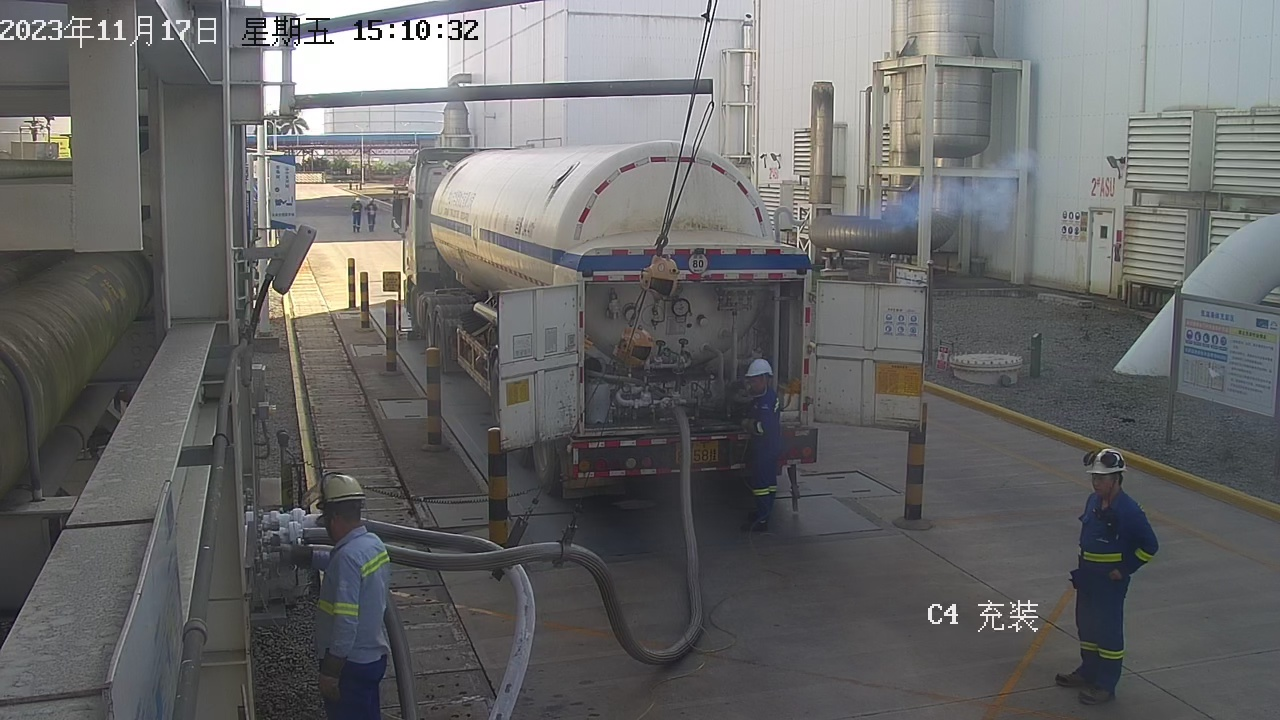Head_with_Helmet: (280, 454, 384, 548), (1067, 441, 1155, 505), (728, 349, 793, 402), (352, 196, 361, 207), (367, 196, 375, 208)
Uniform: (256, 520, 414, 720), (1044, 484, 1177, 705), (702, 373, 810, 531), (364, 204, 381, 234), (349, 203, 364, 233)
